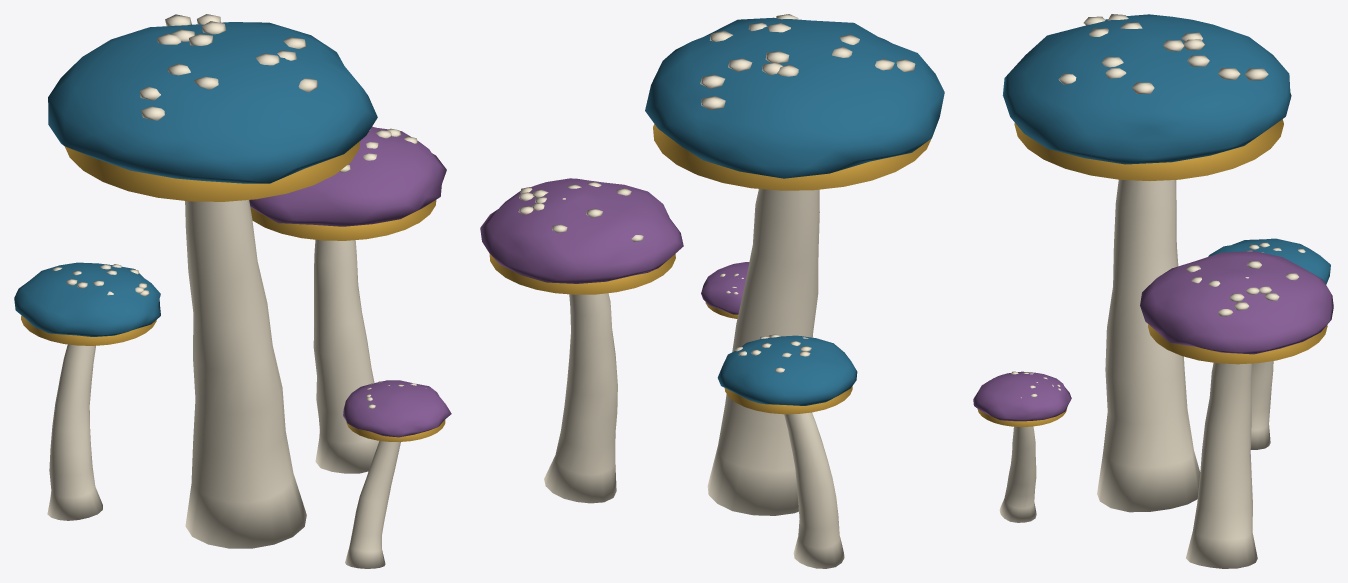
Rendered from fk_giant_mushroom_cluster.fbx.
3 renders of one model, left to right at view 1: azimuth 30°, elevation 25°; view 2: azimuth 150°, elevation 25°; view 3: azimuth 270°, elevation 25°, orthographic. The views are drawn at different scales.
Visible parts, largest first — view 1: fk_cluster_0, fk_cluster_1, fk_cluster_2, fk_cluster_3; view 2: fk_cluster_0, fk_cluster_1, fk_cluster_2, fk_cluster_3; view 3: fk_cluster_0, fk_cluster_1, fk_cluster_3, fk_cluster_2.
Part boxes in pixels (left/top/right/bottom): fk_cluster_0: left=48, top=14, right=377, bottom=548; fk_cluster_1: left=249, top=126, right=446, bottom=473; fk_cluster_2: left=14, top=262, right=160, bottom=520; fk_cluster_3: left=343, top=380, right=451, bottom=568; fk_cluster_0: left=645, top=14, right=944, bottom=515; fk_cluster_1: left=480, top=178, right=683, bottom=503; fk_cluster_2: left=717, top=334, right=857, bottom=568; fk_cluster_3: left=701, top=262, right=749, bottom=318; fk_cluster_0: left=1002, top=14, right=1291, bottom=512; fk_cluster_1: left=1140, top=251, right=1333, bottom=568; fk_cluster_3: left=973, top=371, right=1071, bottom=522; fk_cluster_2: left=1208, top=238, right=1330, bottom=449.
Size of the model in its own units: 727 by 806 by 597.
